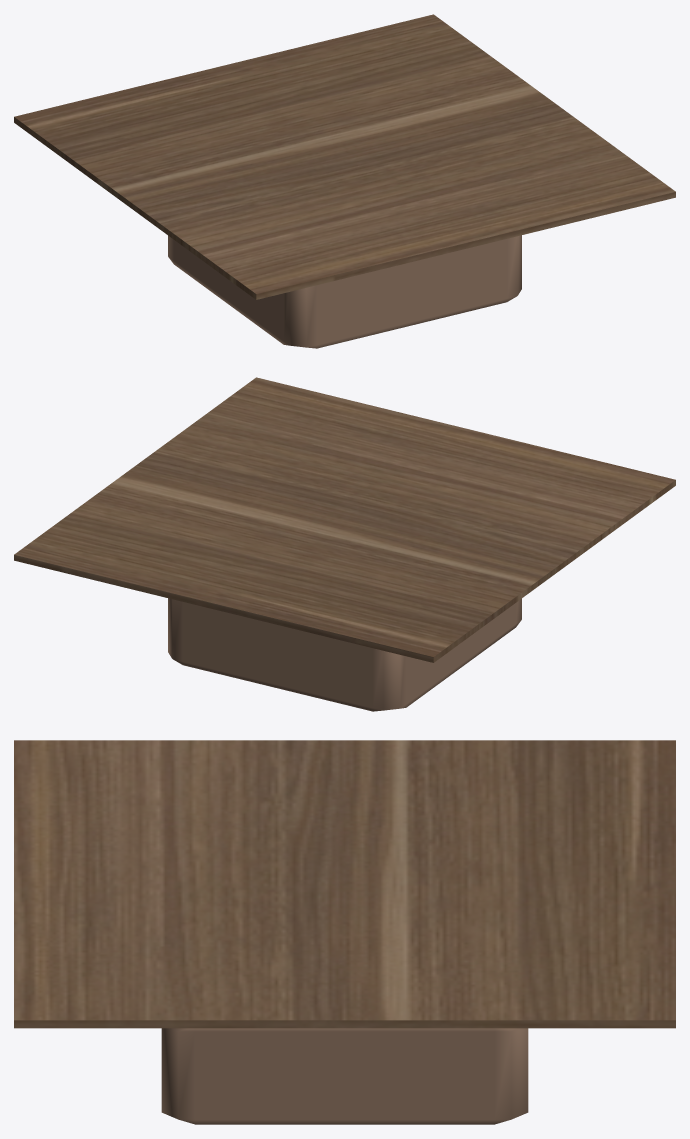
File: Coffee Table SHC QuickOffice.fbx
The picture shows the model from 3 angles, top to bottom: view 1: azimuth 30°, elevation 25°; view 2: azimuth 150°, elevation 25°; view 3: azimuth 270°, elevation 25°; orthographic projection. The views are drawn at different scales.
Parts seen in each view (by area): view 1: Component_118_1, Component_110_1; view 2: Component_118_1, Component_110_1; view 3: Component_118_1, Component_110_1.
Part boxes in pixels (<box>): Component_118_1: <box>14,14,675,299</box>; Component_110_1: <box>168,235,521,348</box>; Component_118_1: <box>14,377,675,662</box>; Component_110_1: <box>168,598,521,711</box>; Component_118_1: <box>14,740,675,1028</box>; Component_110_1: <box>161,1028,528,1124</box>.
Size of what is drawn, in the model's own units: 1.2 by 0.3443 by 1.2.
